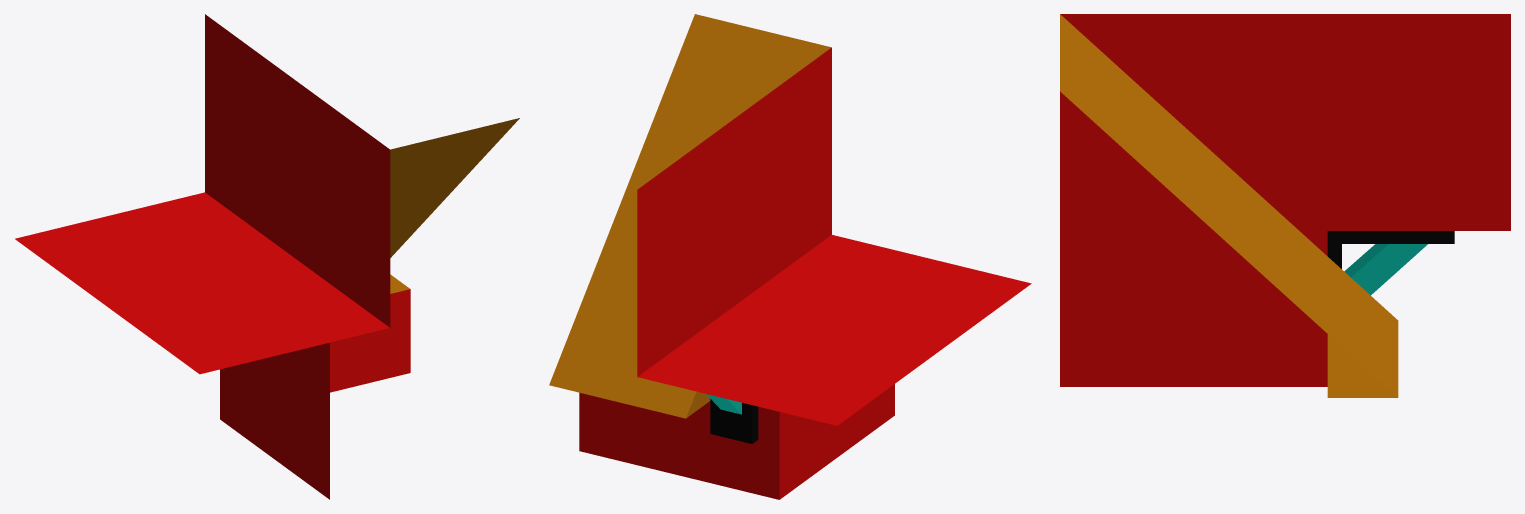
The picture shows the model from 3 angles, left to right: view 1: azimuth 30°, elevation 25°; view 2: azimuth 150°, elevation 25°; view 3: azimuth 270°, elevation 25°; orthographic projection. The views are drawn at different scales.
Visible parts, largest first — view 1: None_E_S_E_E_E_E_A_A_None; view 2: None_E_S_E_E_E_E_A_A_None; view 3: None_E_S_E_E_E_E_A_A_None.
Part boxes in pixels (<box>): None_E_S_E_E_E_E_A_A_None: <box>15,14,519,499</box>; None_E_S_E_E_E_E_A_A_None: <box>549,14,1031,499</box>; None_E_S_E_E_E_E_A_A_None: <box>1060,14,1510,397</box>.
Size of the model in its own units: 100 by 100 by 100.
